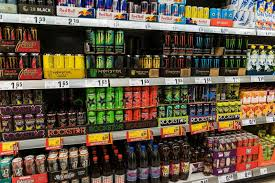can: (42, 46, 60, 89), (57, 50, 73, 85)
